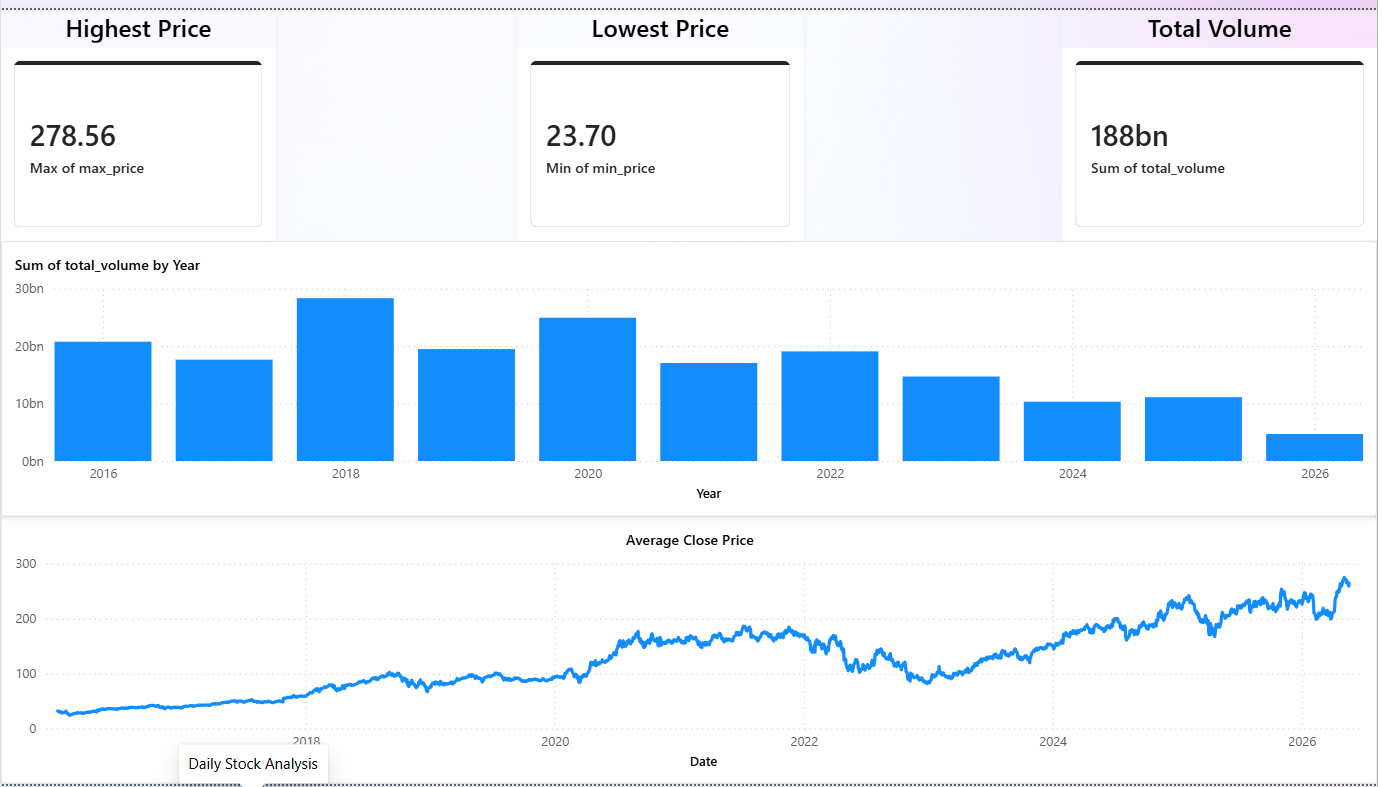

Layout of this report page (visuals, bound fields, positions):
{"tool":"powerbi","page":{"name":"Daily Stock Analysis","canvas":[1280,720],"ordinal":0},"visuals":[{"type":"lineChart","title":"Average Close Price","fields":{"Y":["Sum(gold_amzn_daily_summary.avg_close)"],"Category":["gold_amzn_daily_summary.Date"]},"box":[0,470.9,1280.2,248.8],"z":0},{"type":"cardVisual","title":"Highest Price","fields":{"Data":["Max(gold_amzn_daily_summary.max_price)"]},"box":[0,0,255.8,215.1],"z":1000},{"type":"cardVisual","title":"Lowest Price","fields":{"Data":["Min(gold_amzn_daily_summary.min_price)"]},"box":[480.2,0,266.3,215.1],"z":2000},{"type":"cardVisual","title":"Total Volume","fields":{"Data":["Sum(gold_amzn_daily_summary.total_volume)"]},"box":[987.2,0,293,215.1],"z":3000},{"type":"clusteredColumnChart","fields":{"Category":["gold_amzn_daily_summary.Date.Variation.Date Hierarchy.Year","gold_amzn_daily_summary.Date.Variation.Date Hierarchy.Quarter","gold_amzn_daily_summary.Date.Variation.Date Hierarchy.Month","gold_amzn_daily_summary.Date.Variation.Date Hierarchy.Day"],"Y":["Sum(gold_amzn_daily_summary.total_volume)"]},"box":[0,215.1,1280.2,255.8],"z":4000}]}

Visuals, with their boxes in screenshot pixels (x1, y1, x2, y2), scaled from the page's 1280x720 canvas onto the 1382x787 screenshot:
"Average Close Price" lineChart: bbox=(0, 515, 1381, 786)
"Highest Price" cardVisual: bbox=(0, 0, 276, 235)
"Lowest Price" cardVisual: bbox=(518, 0, 806, 235)
"Total Volume" cardVisual: bbox=(1066, 0, 1381, 235)
clusteredColumnChart - gold_amzn_daily_summary.Date.Variation.Date Hierarchy.Year x gold_amzn_daily_summary.Date.Variation.Date Hierarchy.Quarter: bbox=(0, 235, 1381, 515)
